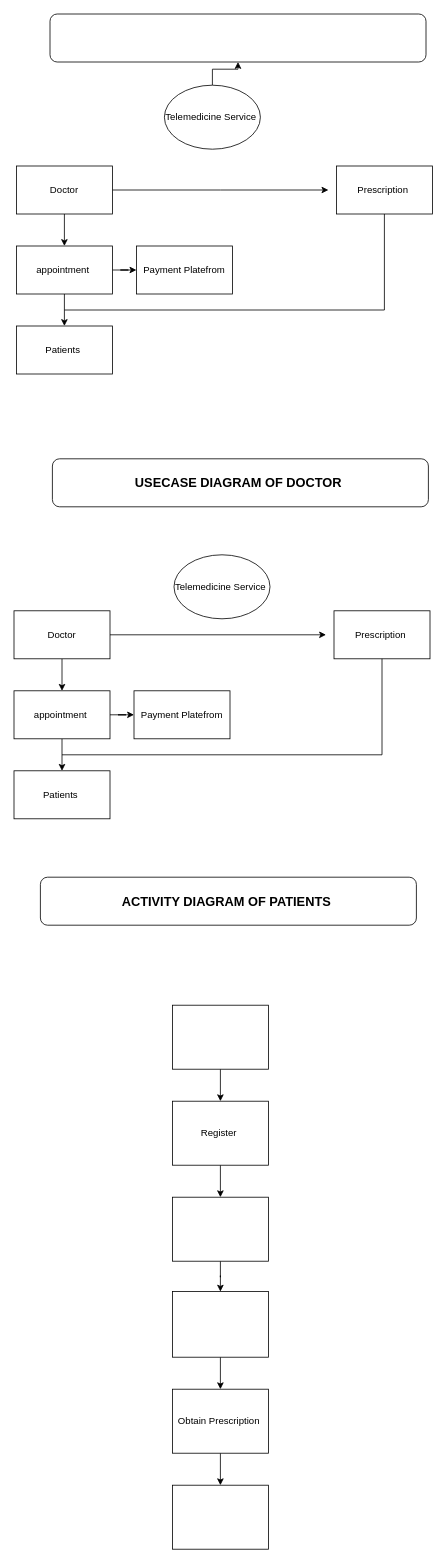
Image size: 446x1563. Some labels were removed from this diagram. The centre of each missing label's shape, as x and y in pixels:
"Book Appointment" goes at (220,1228).
"END" goes at (220,1516).
"STARTS" goes at (220,1036).
"USECASE DIAGRAM OF PATIENTS" goes at (237,37).
"Video Consultation" goes at (220,1324).
